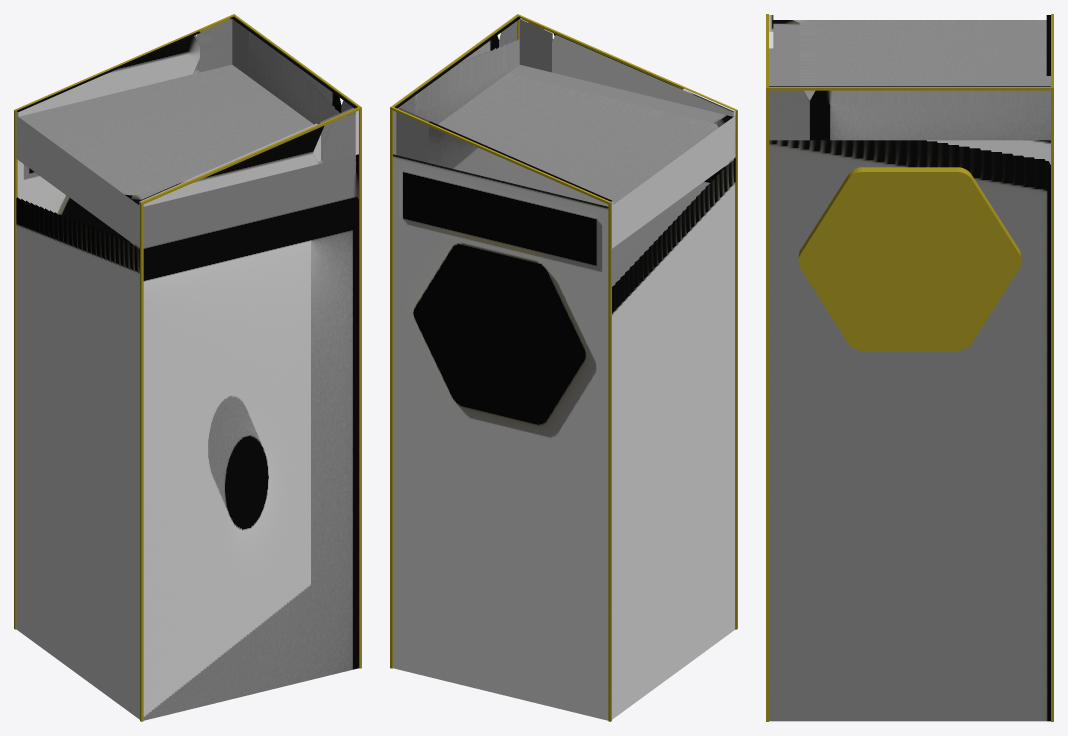
Rendered from podiumold.obj.
3 views of the same model, side by side, from view 1: azimuth 30°, elevation 25°; view 2: azimuth 150°, elevation 25°; view 3: azimuth 270°, elevation 25° (orthographic). The views are drawn at different scales.
Visible parts, largest first — view 1: Cube.005_Cube.006, Cube.001, Cube.006_Cube.002, Cube, Cube.009, Cube.010; view 2: Cube.005_Cube.006, Cube, Cube.007, Cube.001, Cube.010, Cube.009; view 3: Cube.005_Cube.006, Cylinder_Cylinder.002, Cube.007, Cube.006_Cube.002, Cube.008.
Part boxes in pixels (x1,y1,x2,y2): Cube.005_Cube.006: (16, 17, 358, 720); Cube.001: (140, 202, 143, 721); Cube.006_Cube.002: (358, 109, 361, 668); Cube: (14, 110, 17, 629); Cube.009: (140, 106, 361, 204); Cube.010: (14, 14, 234, 111); Cube.005_Cube.006: (393, 17, 735, 720); Cube: (608, 202, 611, 721); Cube.007: (390, 109, 392, 668); Cube.001: (735, 110, 737, 629); Cube.010: (390, 106, 611, 204); Cube.009: (517, 14, 737, 112); Cube.005_Cube.006: (769, 15, 1050, 721); Cylinder_Cylinder.002: (798, 167, 1021, 350); Cube.007: (1051, 89, 1053, 721); Cube.006_Cube.002: (766, 89, 768, 721); Cube.008: (766, 87, 1053, 90).
Bounding box in the file's own units: 1.05 × 2.46 × 1.01.
Materials: 3 (1 with a texture image).
